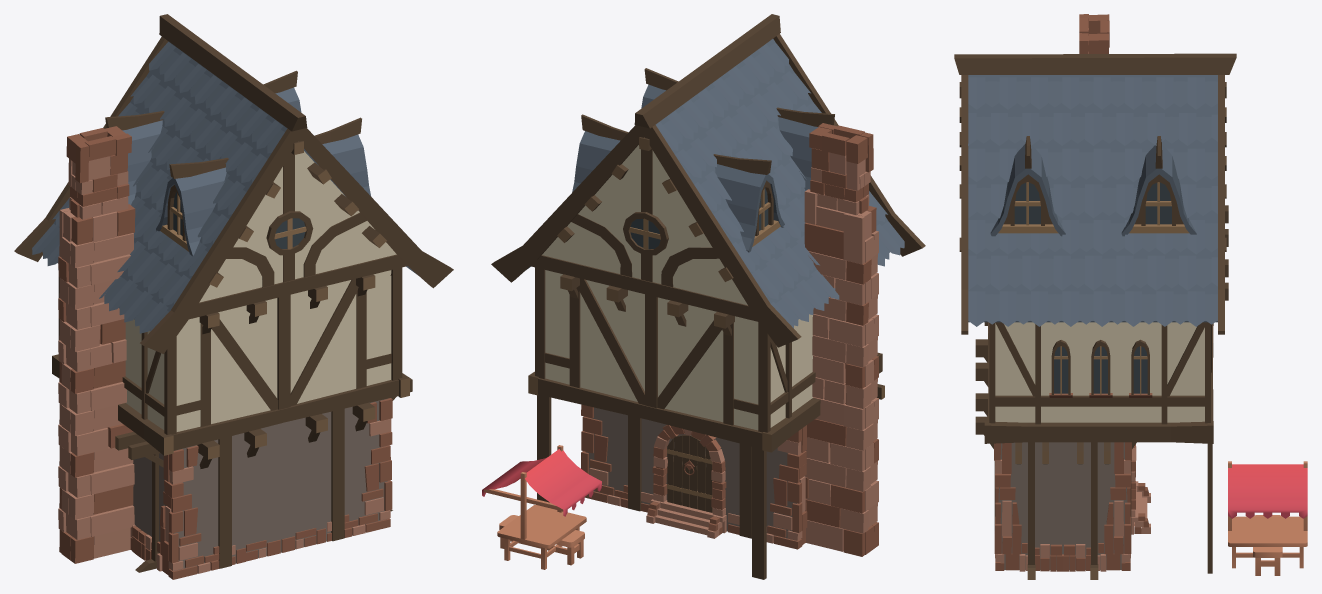
File: london_house_2.glb
3 views of the same model, side by side, from view 1: azimuth 30°, elevation 25°; view 2: azimuth 150°, elevation 25°; view 3: azimuth 270°, elevation 25° (orthographic). The views are drawn at different scales.
Visible parts, largest first — view 1: House_2; view 2: House_2, stall-red, stall-bench; view 3: House_2, stall-red, stall-bench.
Boxes of the visible parts, x1=… form: House_2: x1=14, y1=14, x2=453, y2=579; House_2: x1=491, y1=14, x2=925, y2=579; stall-red: x1=482, y1=445, x2=601, y2=569; stall-bench: x1=499, y1=515, x2=584, y2=565; House_2: x1=954, y1=14, x2=1236, y2=579; stall-red: x1=1228, y1=461, x2=1307, y2=568; stall-bench: x1=1253, y1=515, x2=1282, y2=575.
Bounding box in the file's own units: 13.32 × 17.88 × 12.41.
11 materials, 2 textured.
